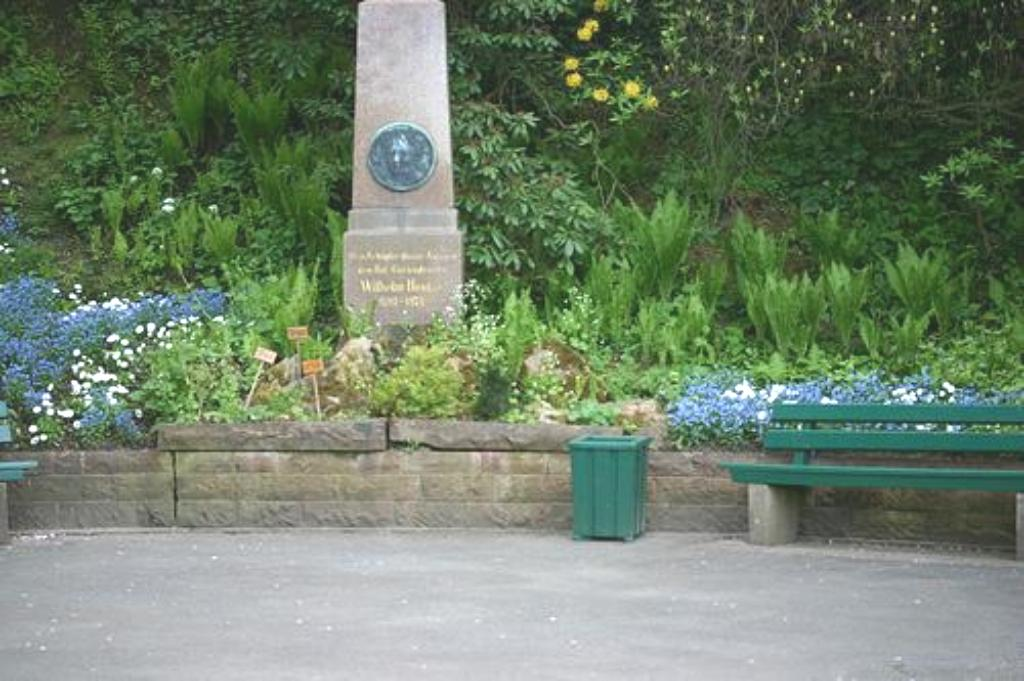dustbin: (568, 426, 660, 540)
